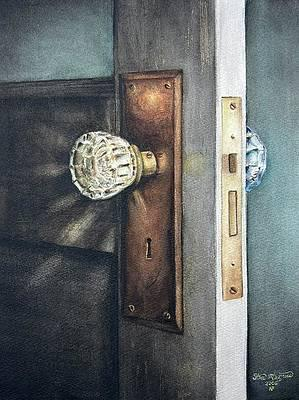doorhandle: (52, 105, 214, 210)
